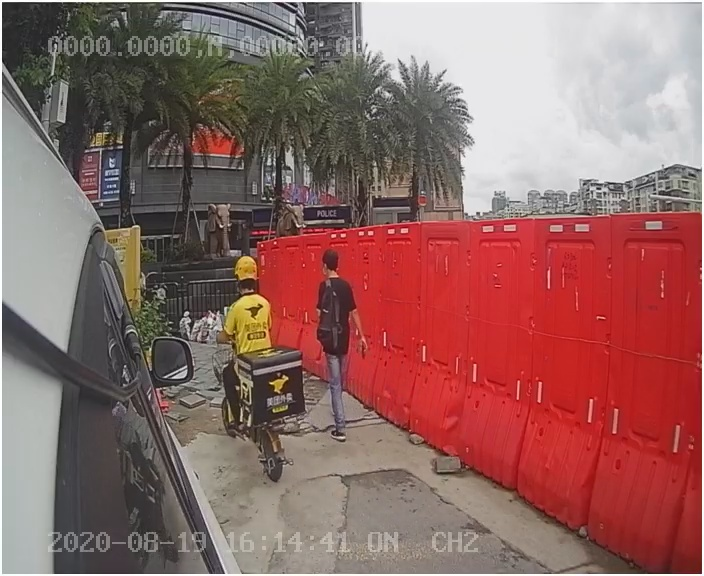person: (297, 246, 383, 444)
